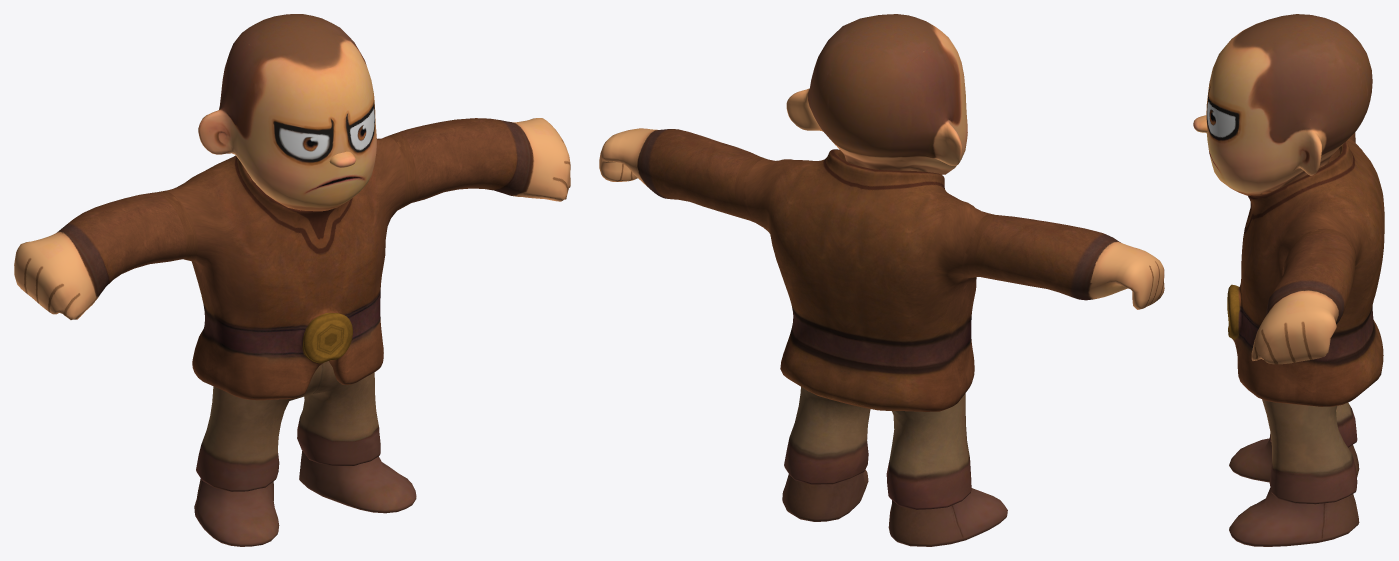
File: Sm_Jerry.fbx
The picture shows the model from 3 angles, left to right: view 1: azimuth 30°, elevation 25°; view 2: azimuth 150°, elevation 25°; view 3: azimuth 270°, elevation 25°; orthographic projection. The views are drawn at different scales.
Parts seen in each view (by area): view 1: Sm_Jerry; view 2: Sm_Jerry; view 3: Sm_Jerry.
Part boxes in pixels (x1,y1,x2,y2): Sm_Jerry: (14, 14, 570, 546); Sm_Jerry: (599, 14, 1164, 546); Sm_Jerry: (1193, 14, 1384, 546).
Bounding box in the file's own units: 223 × 191 × 69.56.
Materials: 1 (1 with a texture image).
